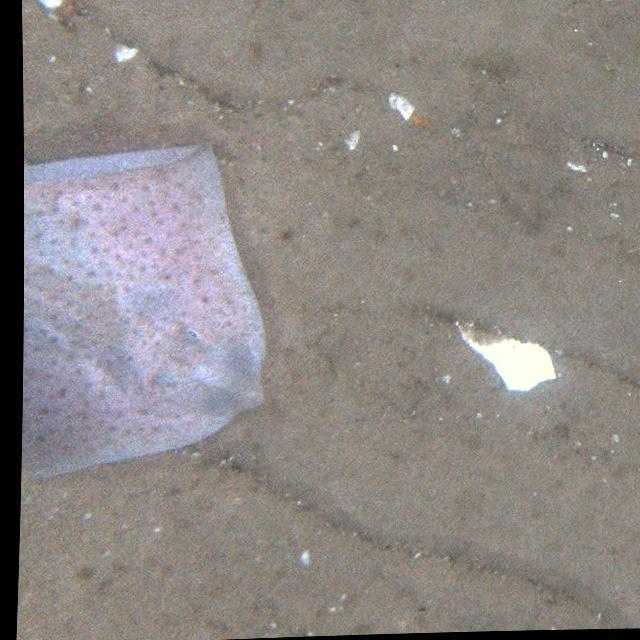skate: (21, 150, 268, 476)
